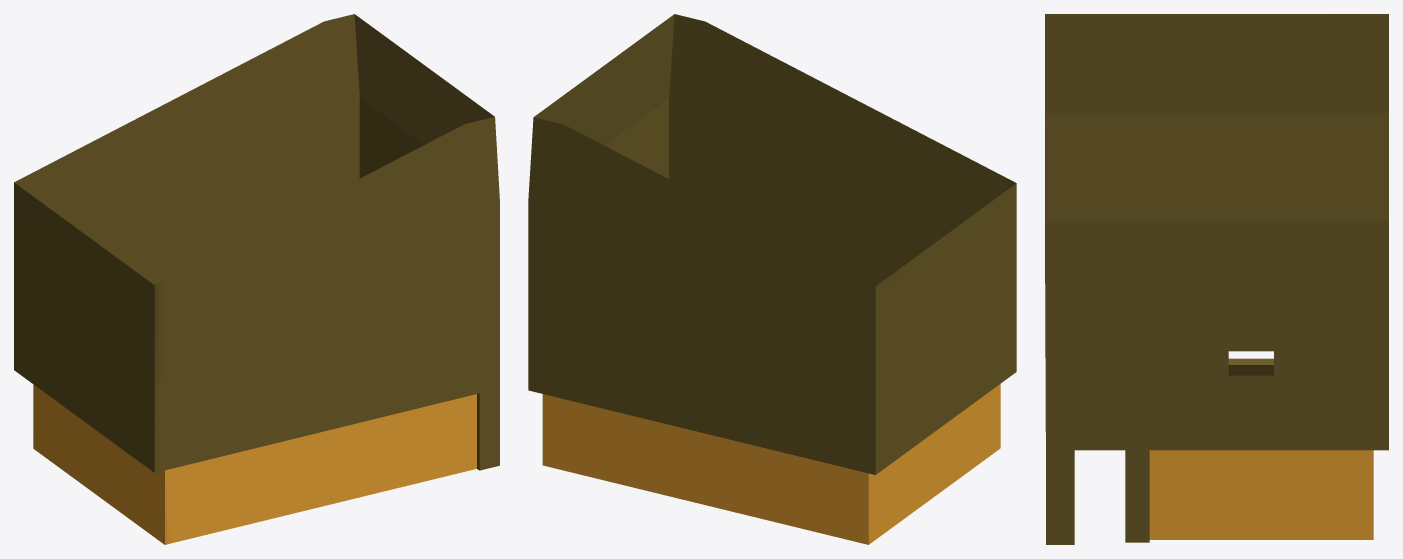
File: building.fbx
The picture shows the model from 3 angles, left to right: view 1: azimuth 30°, elevation 25°; view 2: azimuth 150°, elevation 25°; view 3: azimuth 270°, elevation 25°; orthographic projection. The views are drawn at different scales.
Visible parts, largest first — view 1: Cube; view 2: Cube; view 3: Cube.
Part boxes in pixels (x1,y1,x2,y2): Cube: [14, 14, 499, 544]; Cube: [528, 14, 1016, 544]; Cube: [1045, 14, 1388, 544].
Bounding box in the file's own units: 2388 × 3287 × 3499.
